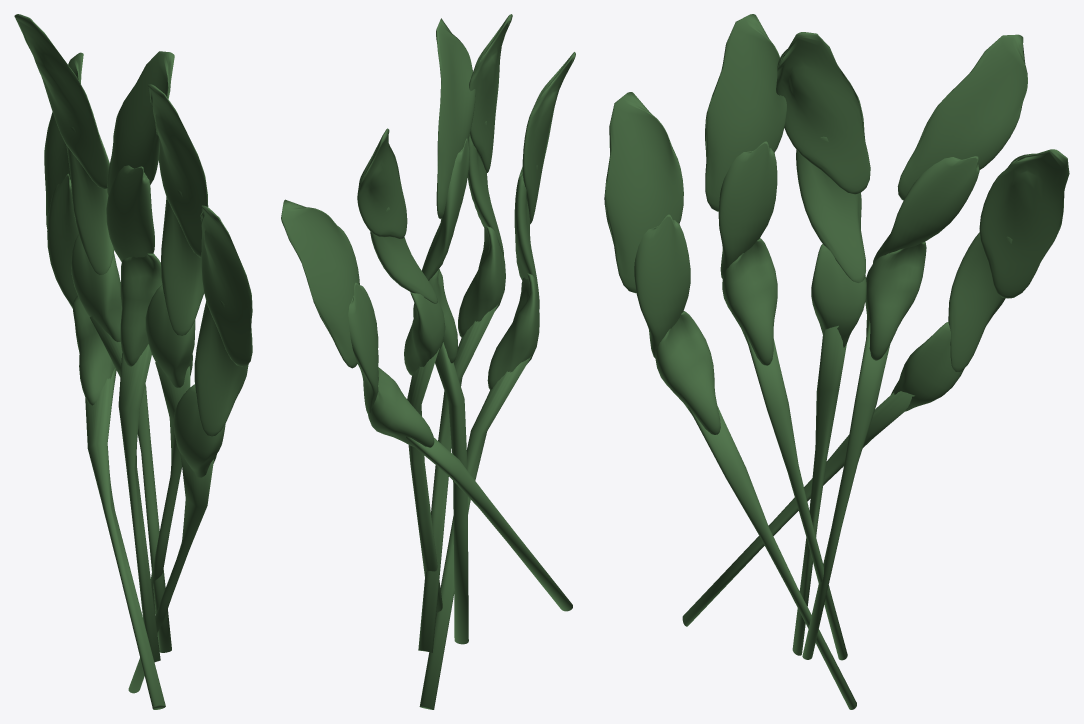
Rendered from Algue 03.fbx.
The picture shows the model from 3 angles, left to right: view 1: azimuth 30°, elevation 25°; view 2: azimuth 150°, elevation 25°; view 3: azimuth 270°, elevation 25°; orthographic projection. The views are drawn at different scales.
Parts seen in each view (by area): view 1: algue solo.004; view 2: algue solo.004; view 3: algue solo.004.
Boxes of the visible parts, left/top/right/bottom form: algue solo.004: left=14, top=14, right=252, bottom=709; algue solo.004: left=281, top=14, right=575, bottom=709; algue solo.004: left=604, top=14, right=1069, bottom=709.
Size of the model in its own units: 1.61 by 9.54 by 5.9.
